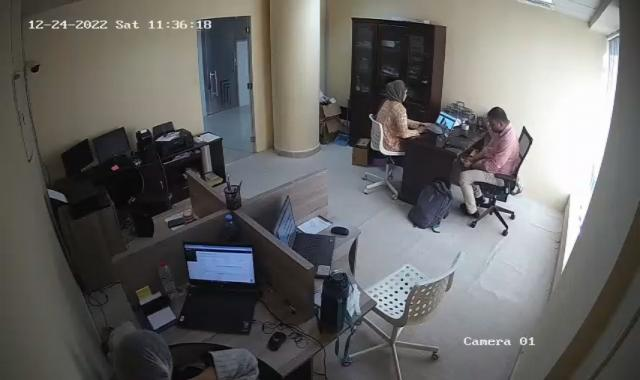hairnet: (112, 326, 177, 380)
no_hairnet: (487, 104, 509, 139), (385, 78, 409, 106)
